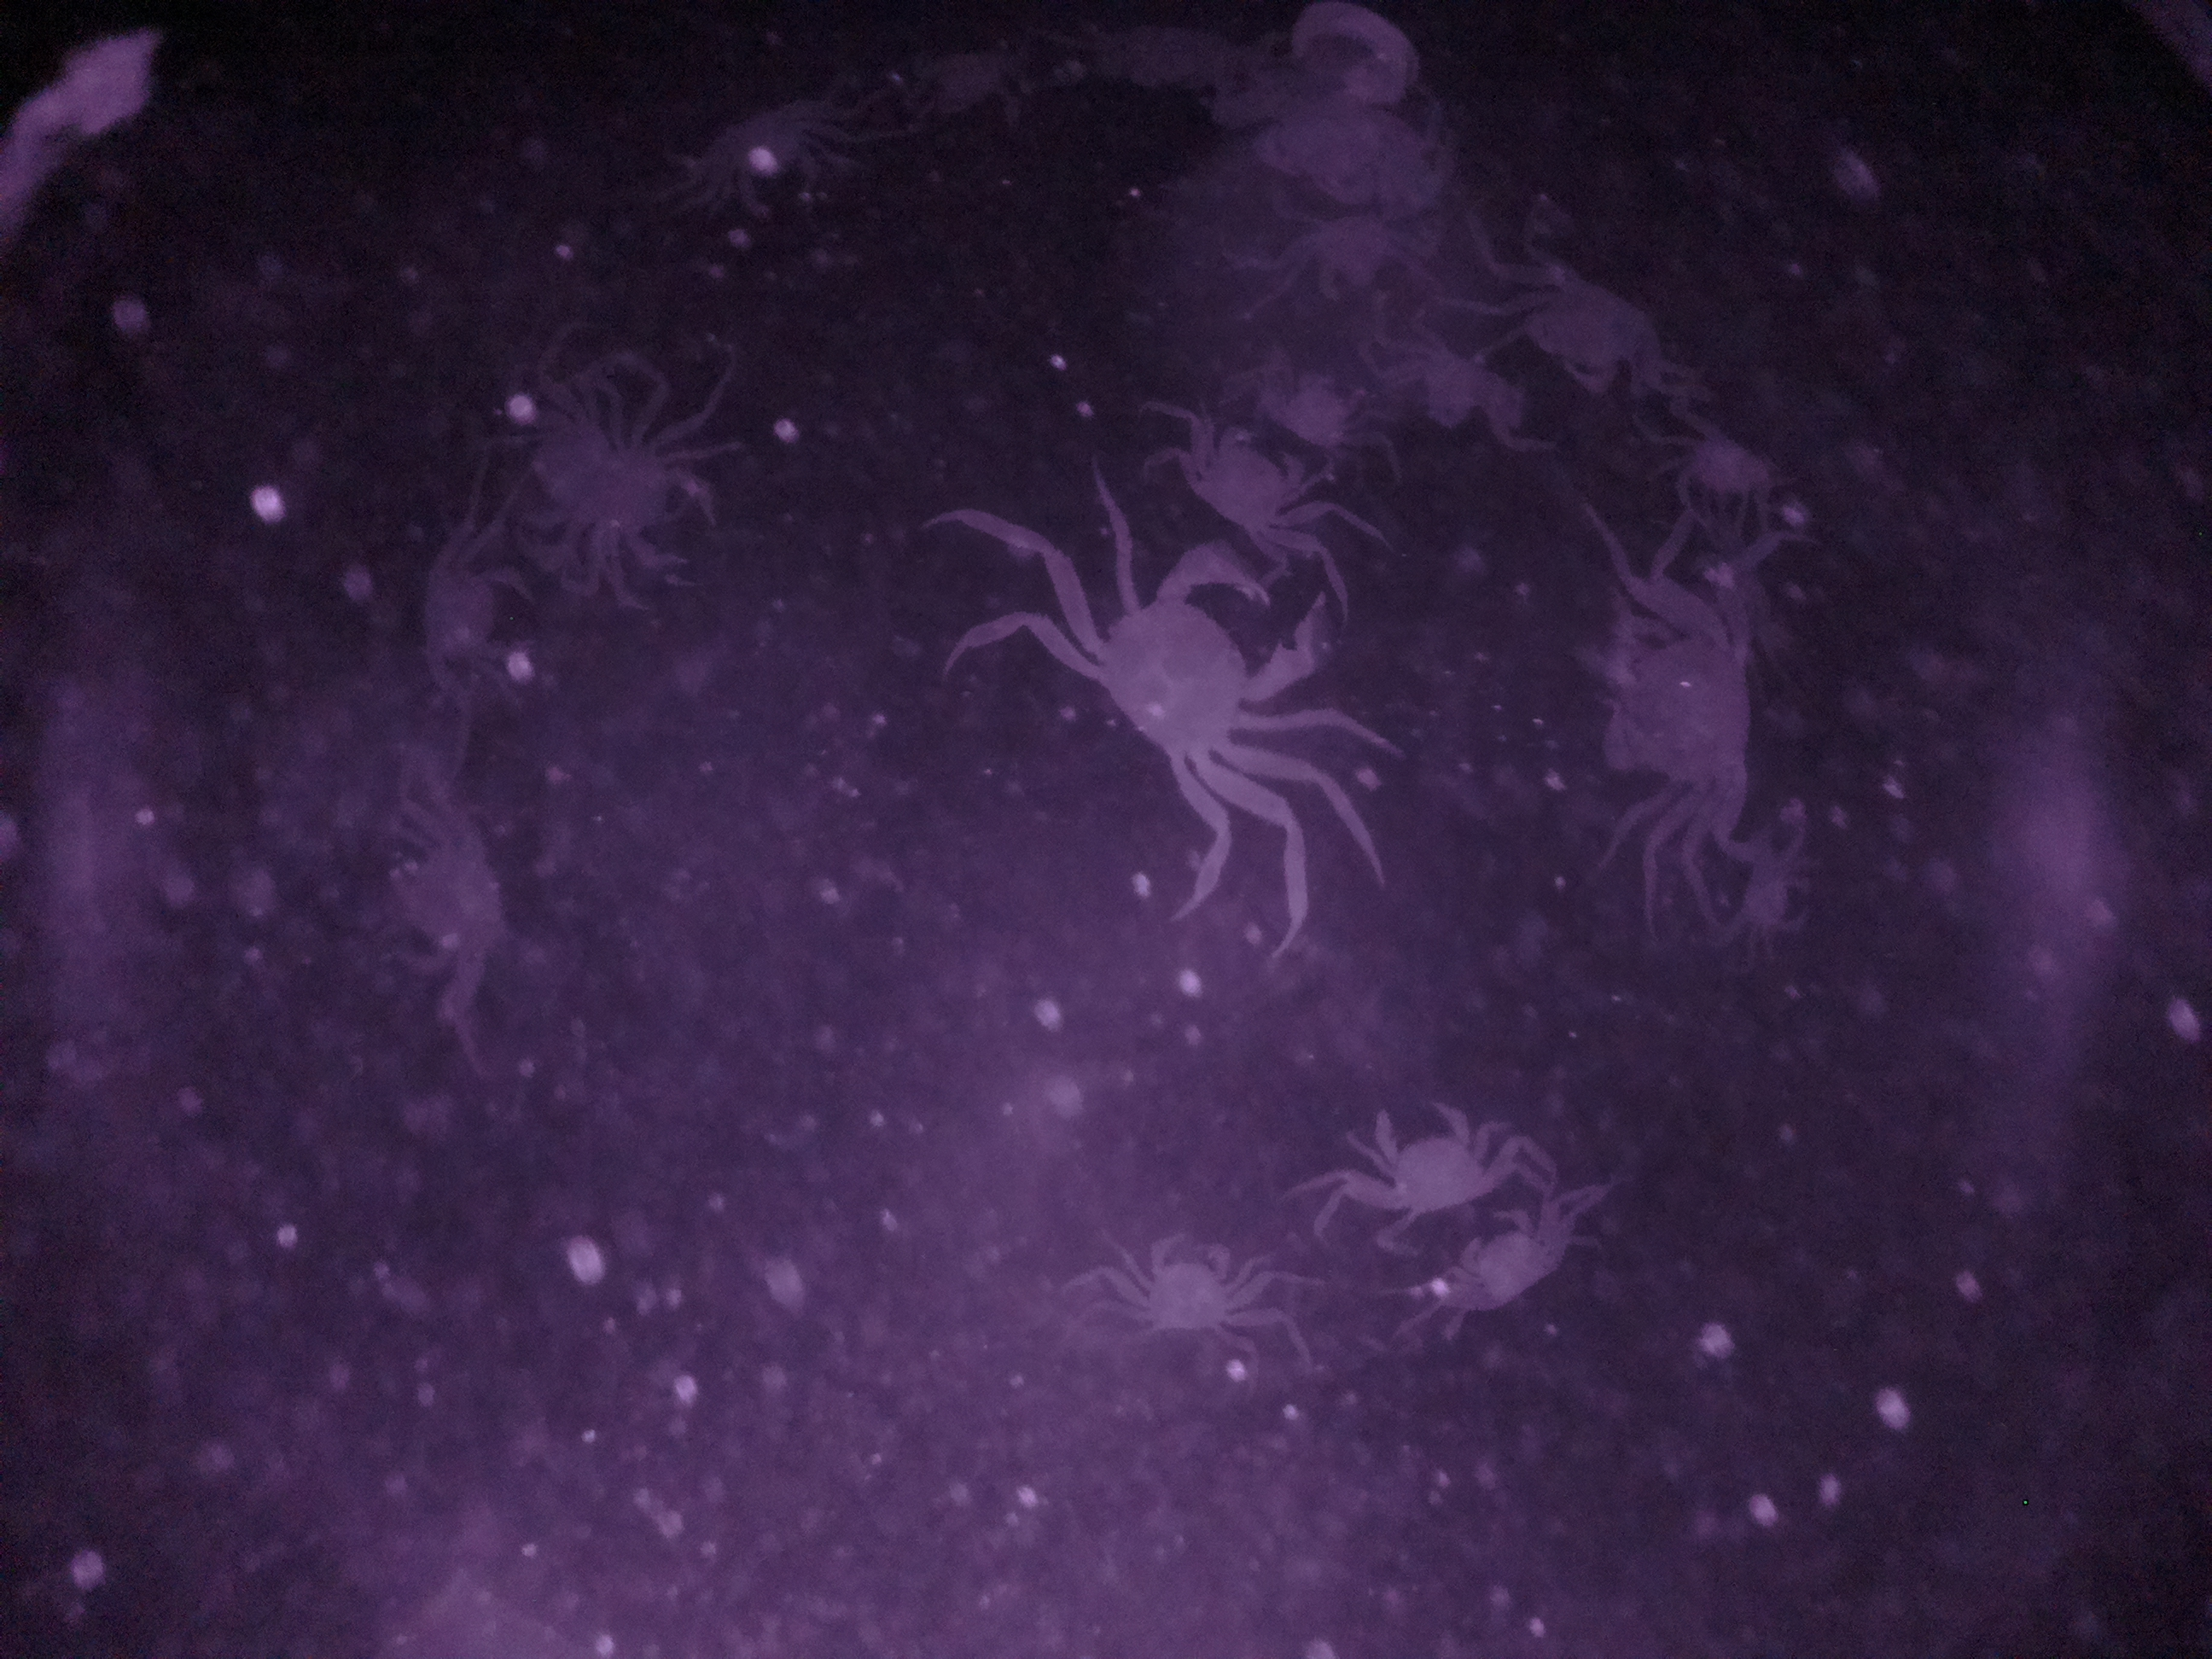Crab: (1043, 542, 1338, 810), (1580, 582, 1764, 843), (1413, 1173, 1585, 1337), (1479, 254, 1672, 396), (1158, 410, 1338, 551), (1360, 1080, 1508, 1239), (1109, 1230, 1258, 1352)
